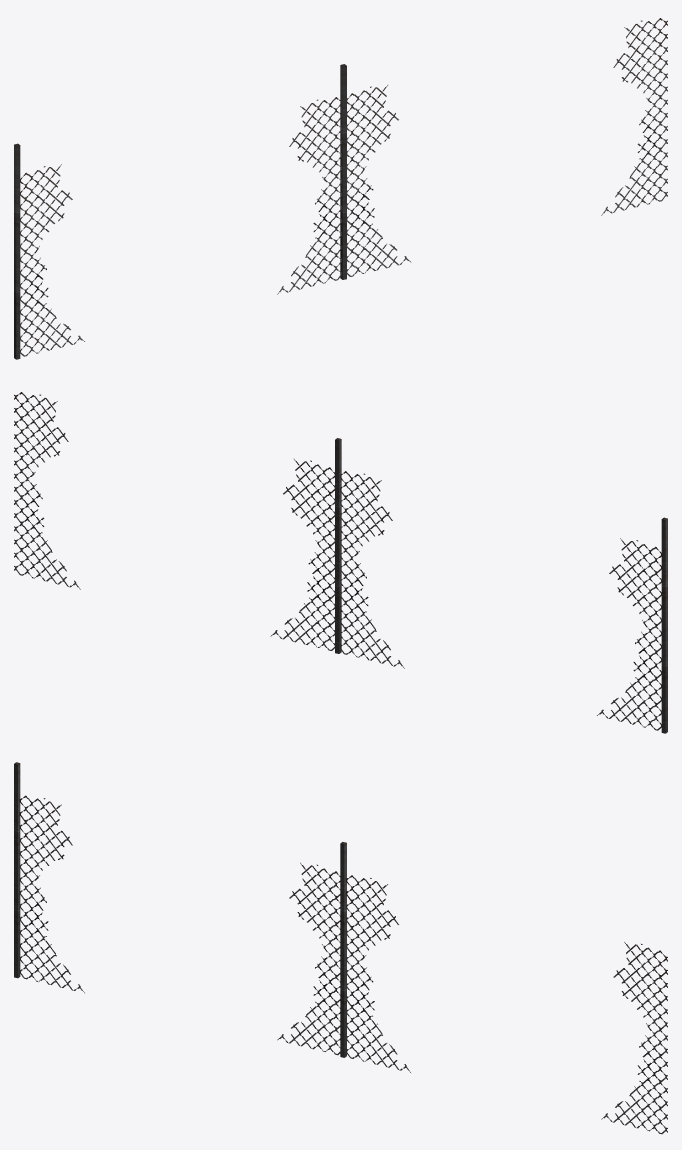
Rendered from Mfence2x.glb.
3 renders of one model, top to bottom at view 1: azimuth 30°, elevation 25°; view 2: azimuth 150°, elevation 25°; view 3: azimuth 330°, elevation 25°, orthographic.
Parts seen in each view (by area): view 1: _Mfence2x; view 2: _Mfence2x; view 3: _Mfence2x.
Part boxes in pixels (<box>): _Mfence2x: <box>14,18,667,359</box>; _Mfence2x: <box>14,392,667,733</box>; _Mfence2x: <box>14,762,667,1134</box>.
Bounding box in the file's own units: 16 × 5 × 0.1.
Materials: 2 (2 with a texture image).
